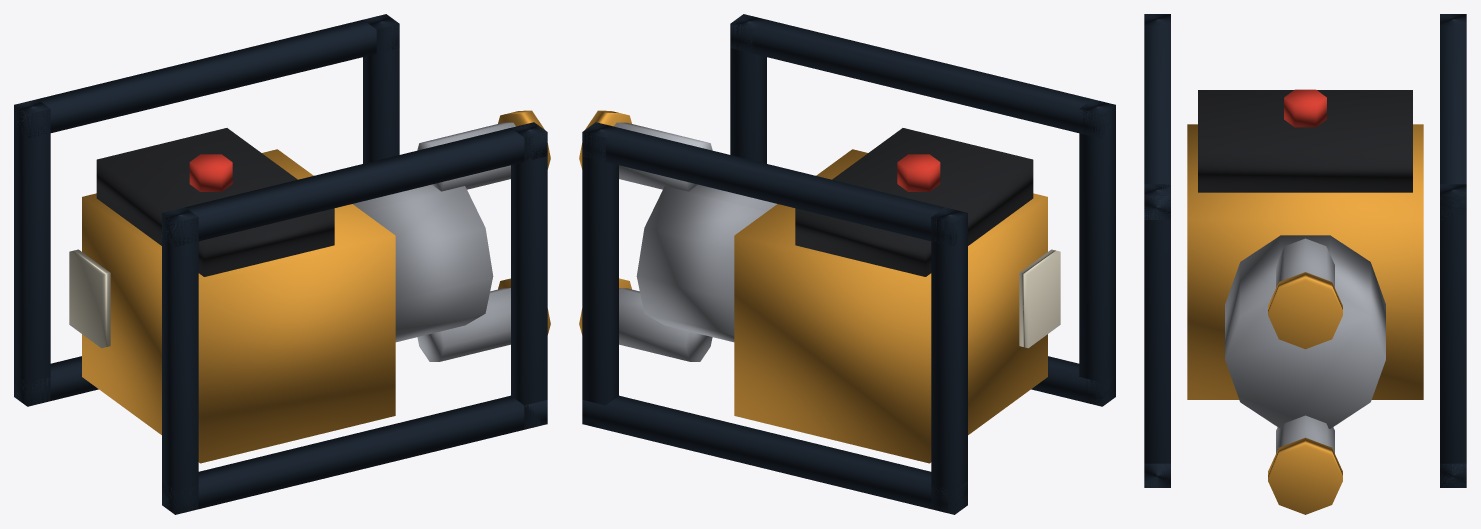
File: flood_pump.glb
3 renders of one model, left to right at view 1: azimuth 30°, elevation 25°; view 2: azimuth 150°, elevation 25°; view 3: azimuth 270°, elevation 25°, orthographic.
Visible parts, largest first — view 1: Body; view 2: Body; view 3: Body.
Boxes of the visible parts, x1,y1,x2,y2 form: Body: (14,14,550,514); Body: (579,14,1115,514); Body: (1144,14,1466,514).
Bounding box in the file's own units: 0.96 × 0.6 × 0.6.
1 material, 1 textured.
